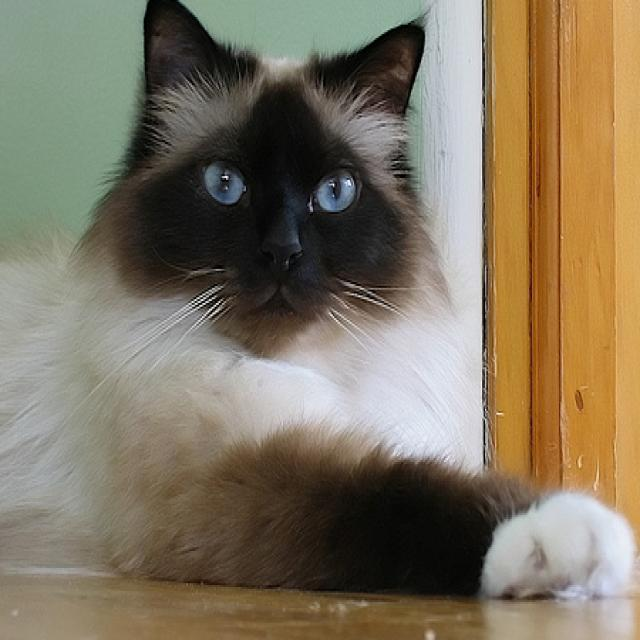Birman: (0, 0, 637, 600)
